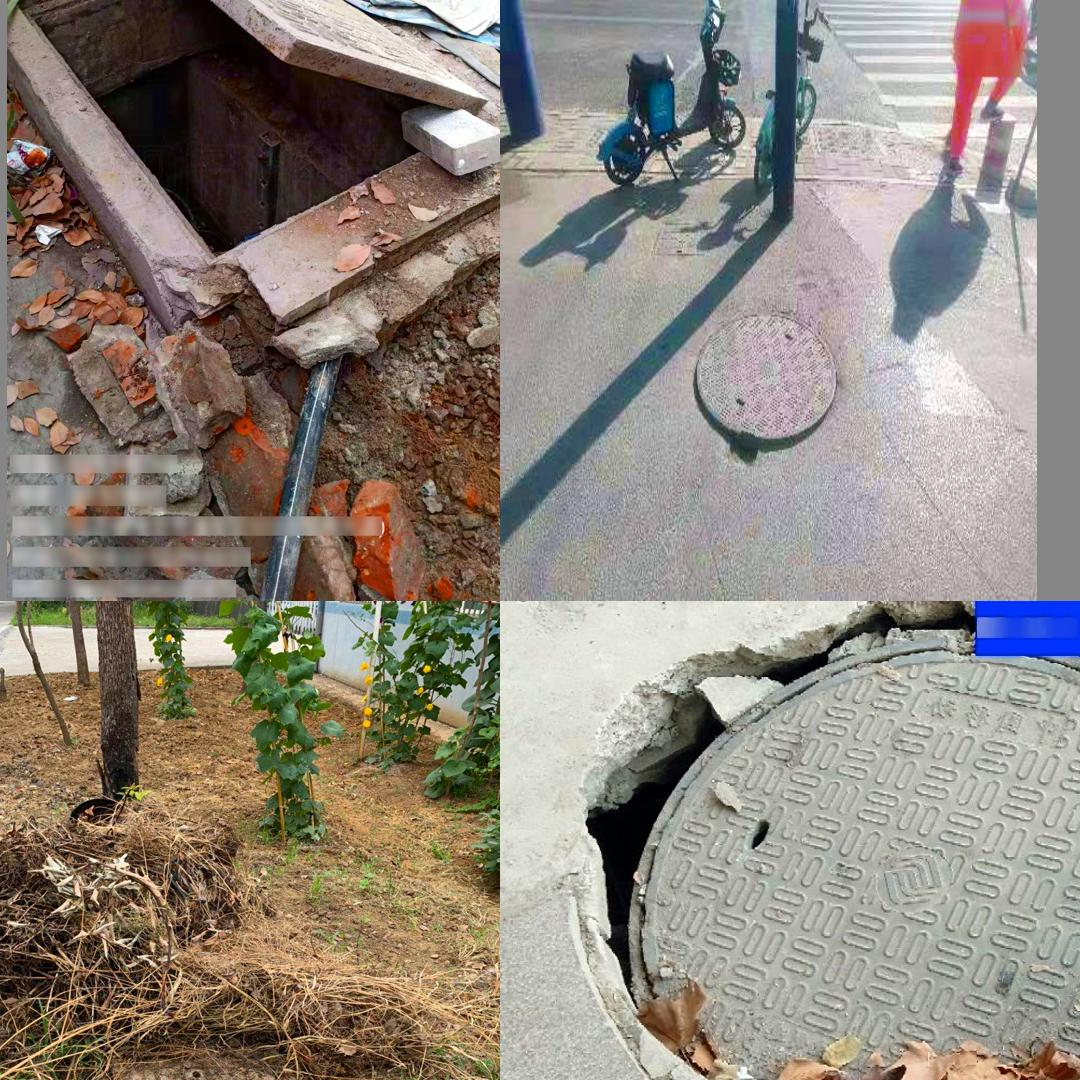uncovered: (628, 629, 1080, 1080), (8, 0, 500, 352), (691, 313, 836, 454), (42, 1019, 373, 1080)
